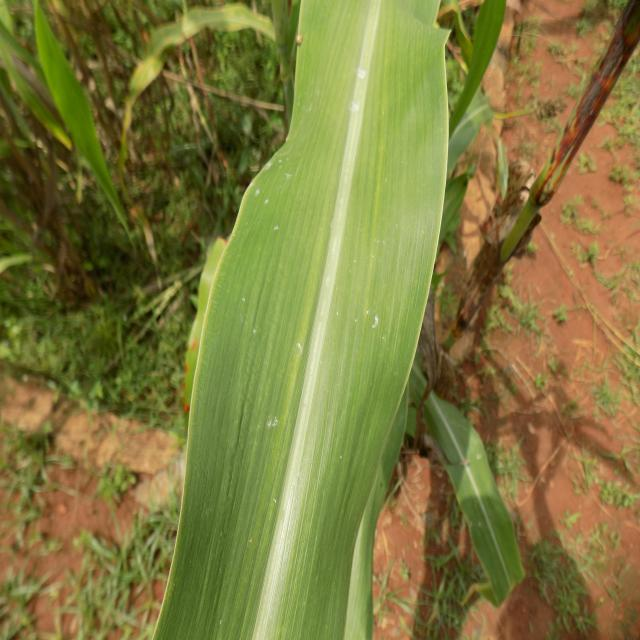millet_healthy: (152, 0, 451, 640), (415, 381, 538, 618), (27, 7, 138, 259), (443, 0, 518, 194)
millet_rust: (118, 0, 284, 128), (169, 260, 220, 421)
